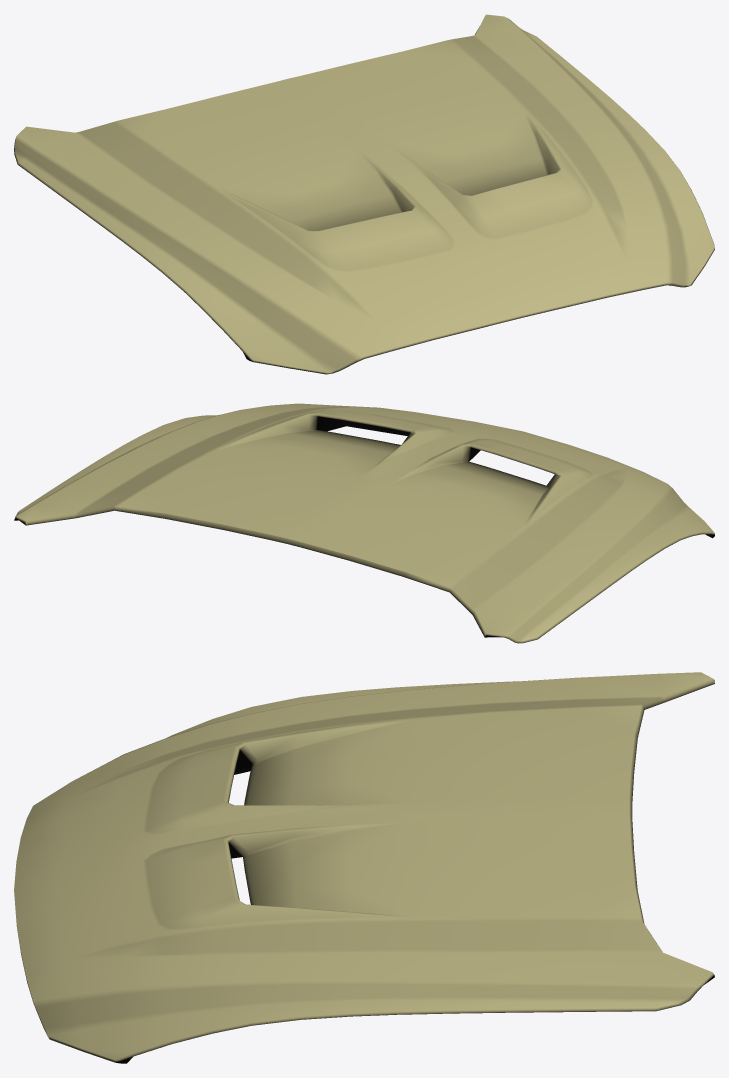
The model's file is Mustang16_Hood_10_Duco.fbx.
The picture shows the model from 3 angles, top to bottom: view 1: azimuth 30°, elevation 25°; view 2: azimuth 150°, elevation 25°; view 3: azimuth 270°, elevation 25°; orthographic projection. The views are drawn at different scales.
Visible parts, largest first — view 1: Mustang16_Hood_10_Duco; view 2: Mustang16_Hood_10_Duco; view 3: Mustang16_Hood_10_Duco.
Boxes of the visible parts, box(x1,y1,x2,y2) form: Mustang16_Hood_10_Duco: box(14, 14, 714, 374); Mustang16_Hood_10_Duco: box(14, 403, 714, 643); Mustang16_Hood_10_Duco: box(14, 672, 714, 1063).
Bounding box in the file's own units: 168 × 27.48 × 149.
